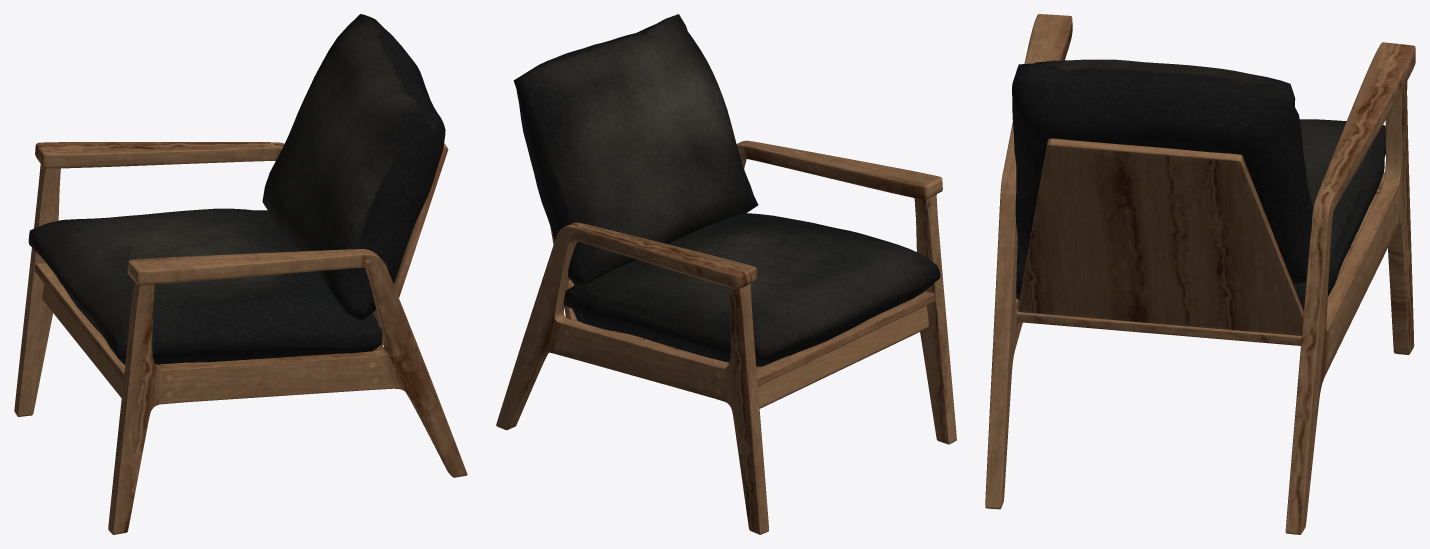
The model's file is living-armchair.glb.
3 renders of one model, left to right at view 1: azimuth 30°, elevation 25°; view 2: azimuth 150°, elevation 25°; view 3: azimuth 270°, elevation 25°, orthographic. The views are drawn at different scales.
Parts seen in each view (by area): view 1: modern_arm_chair_01; view 2: modern_arm_chair_01; view 3: modern_arm_chair_01.
Part boxes in pixels (x1,y1,x2,y2): modern_arm_chair_01: [14, 14, 467, 534]; modern_arm_chair_01: [496, 14, 956, 534]; modern_arm_chair_01: [985, 14, 1415, 534].
Bounding box in the file's own units: 1.09 × 1.02 × 0.9128.
2 materials, 2 textured.
